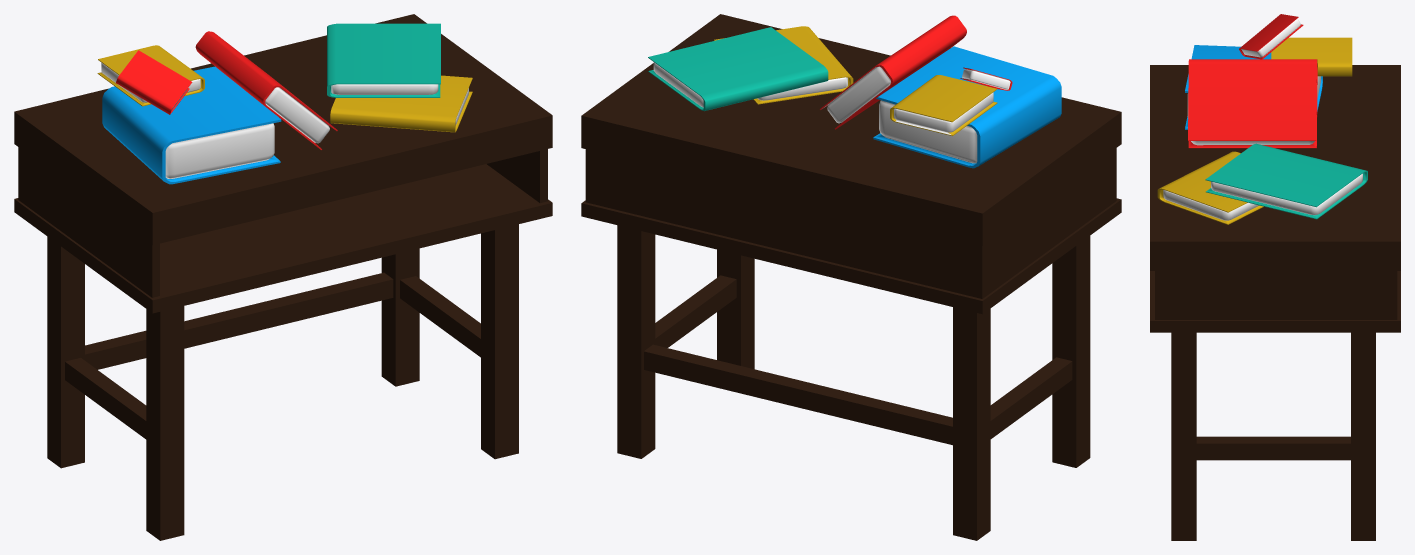
The picture shows the model from 3 angles, left to right: view 1: azimuth 30°, elevation 25°; view 2: azimuth 150°, elevation 25°; view 3: azimuth 270°, elevation 25°; orthographic projection. The views are drawn at different scales.
Parts seen in each view (by area): view 1: Box001, Box003, ChamferBox004, C-Ext001, Box002, Box006, ChamferBox005, Box004, Box007, ChamferBox008, ChamferBox003, Box005 (+4 smaller); view 2: Box001, C-Ext001, ChamferBox004, ChamferBox005, Box007, Box004, Box003, Box005, Box002, ChamferBox003, ChamferBox009, Box006 (+4 smaller); view 3: Box001, C-Ext001, ChamferBox003, ChamferBox005, Box006, Box005, Box009, Box003, ChamferBox008, ChamferBox009, ChamferBox010, ChamferBox004.
Boxes of the visible parts, x1,y1,x2,y2 form: Box001: [14, 14, 552, 245]; Box003: [14, 164, 552, 313]; ChamferBox004: [102, 66, 281, 184]; C-Ext001: [18, 147, 547, 297]; Box002: [146, 306, 184, 540]; Box006: [481, 224, 518, 459]; ChamferBox005: [327, 23, 440, 97]; Box004: [47, 236, 84, 468]; Box007: [85, 272, 393, 369]; ChamferBox008: [330, 75, 472, 132]; ChamferBox003: [195, 31, 337, 149]; Box005: [381, 248, 419, 386]; Box001: [581, 14, 1121, 245]; C-Ext001: [585, 148, 1116, 298]; ChamferBox004: [873, 46, 1061, 168]; ChamferBox005: [648, 27, 828, 111]; Box007: [644, 344, 952, 445]; Box004: [953, 307, 990, 540]; Box003: [581, 198, 1121, 314]; Box005: [617, 225, 655, 458]; Box002: [1052, 236, 1090, 467]; ChamferBox003: [820, 15, 966, 129]; ChamferBox009: [890, 75, 997, 135]; Box006: [717, 249, 754, 369]; Box001: [1150, 65, 1400, 270]; C-Ext001: [1155, 271, 1397, 319]; ChamferBox003: [1188, 59, 1317, 148]; ChamferBox005: [1205, 143, 1367, 219]; Box006: [1171, 332, 1196, 540]; Box005: [1351, 332, 1375, 540]; Box009: [1196, 436, 1350, 460]; Box003: [1150, 271, 1400, 332]; ChamferBox008: [1157, 151, 1263, 224]; ChamferBox009: [1271, 37, 1352, 76]; ChamferBox010: [1239, 14, 1303, 59]; ChamferBox004: [1185, 45, 1322, 129].
Size of the model in its own units: 50 by 51.07 by 30.
Materials: 2 (1 with a texture image).
